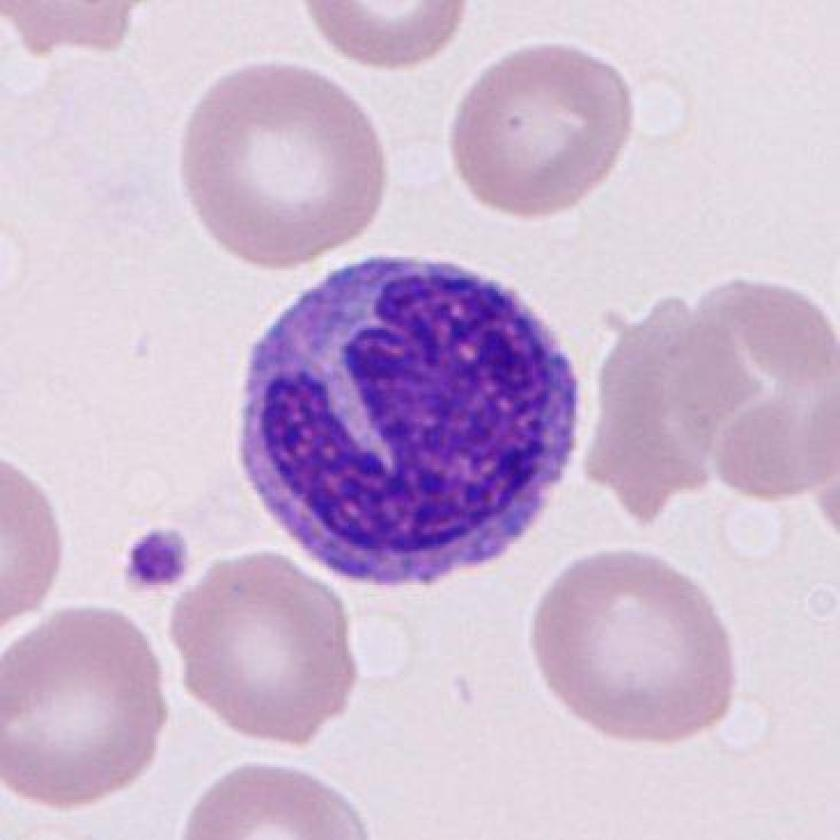monocyte: (212, 238, 600, 600)
